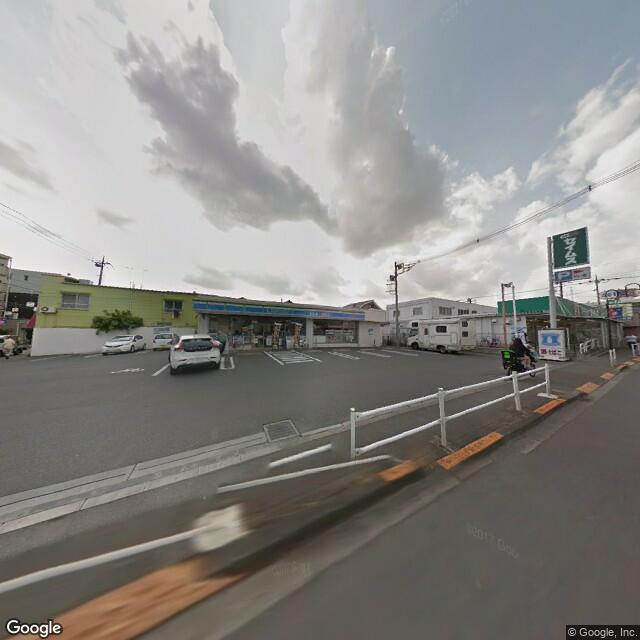lawson: (187, 290, 368, 326), (537, 326, 564, 352)
